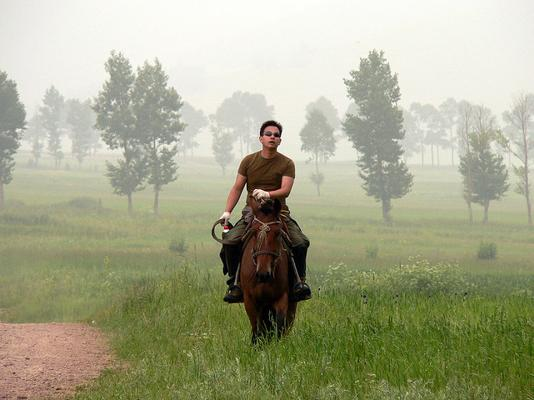person: (221, 122, 311, 304)
